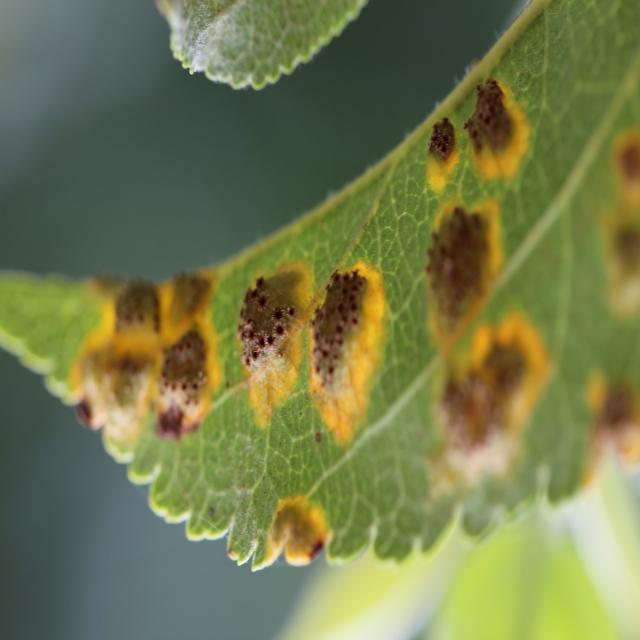Gymnosporangium_Rusts: (0, 51, 640, 548)
